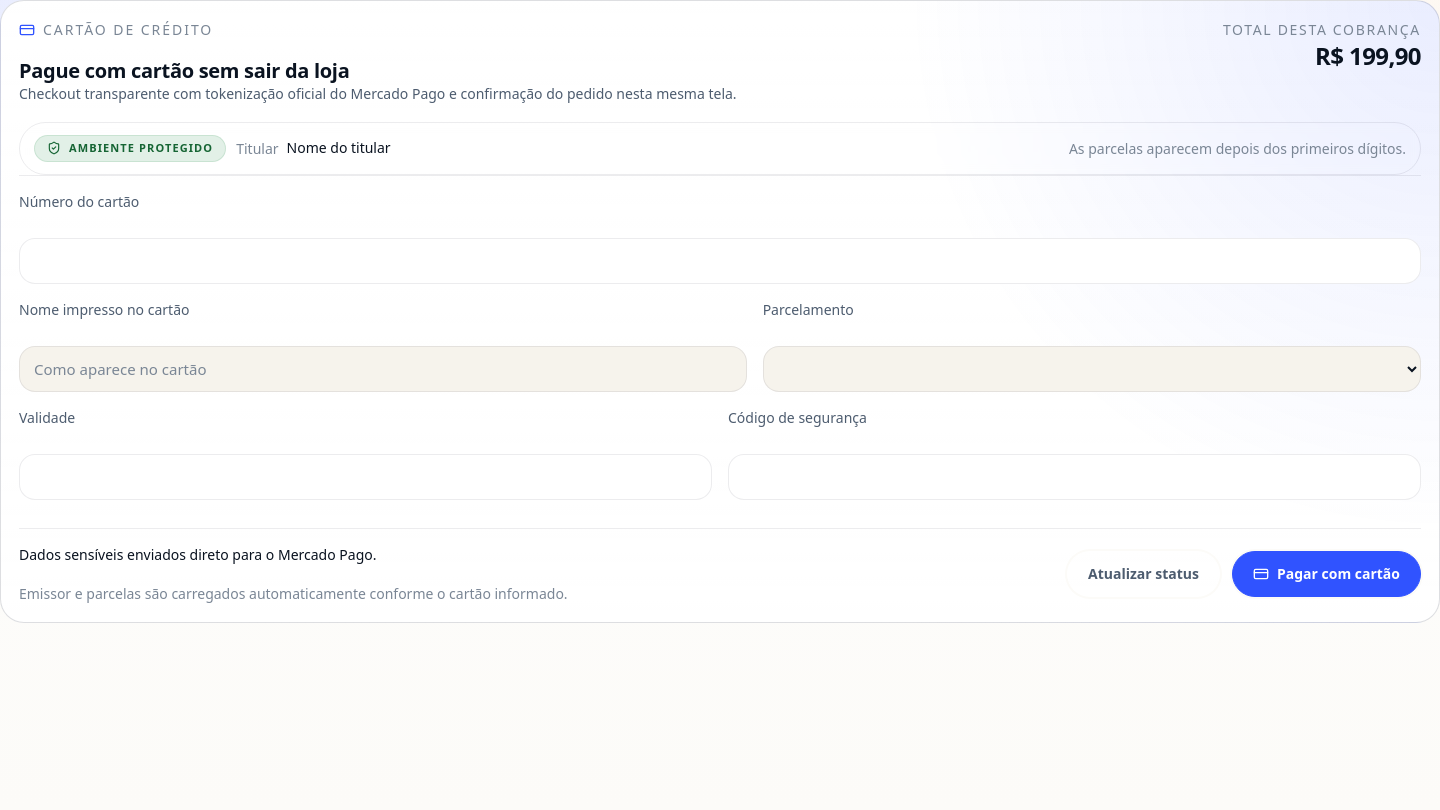
MercadoPagoCardForm › updates the visible cardholder summary without affecting the secure SDK fields
Type "Maria Silva" into the field labelled "Nome impresso no cartão".
click(383, 368); type("Maria Silva")  # box top-left (19, 346), bottom-right (747, 392)
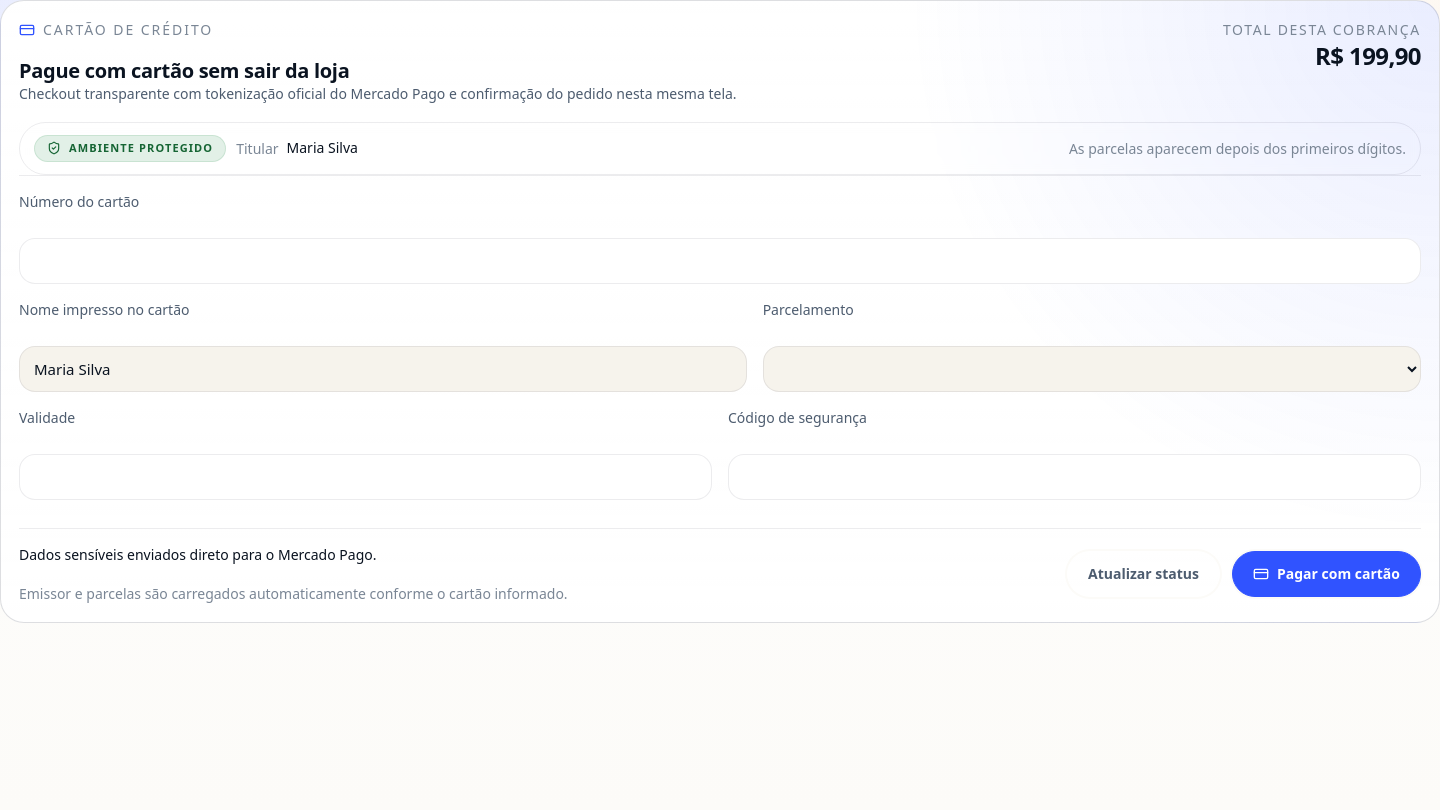
Now the text with test id "mercado-pago-cardholder-preview" reads "Maria Silva", box top-left (286, 138), bottom-right (358, 157)
